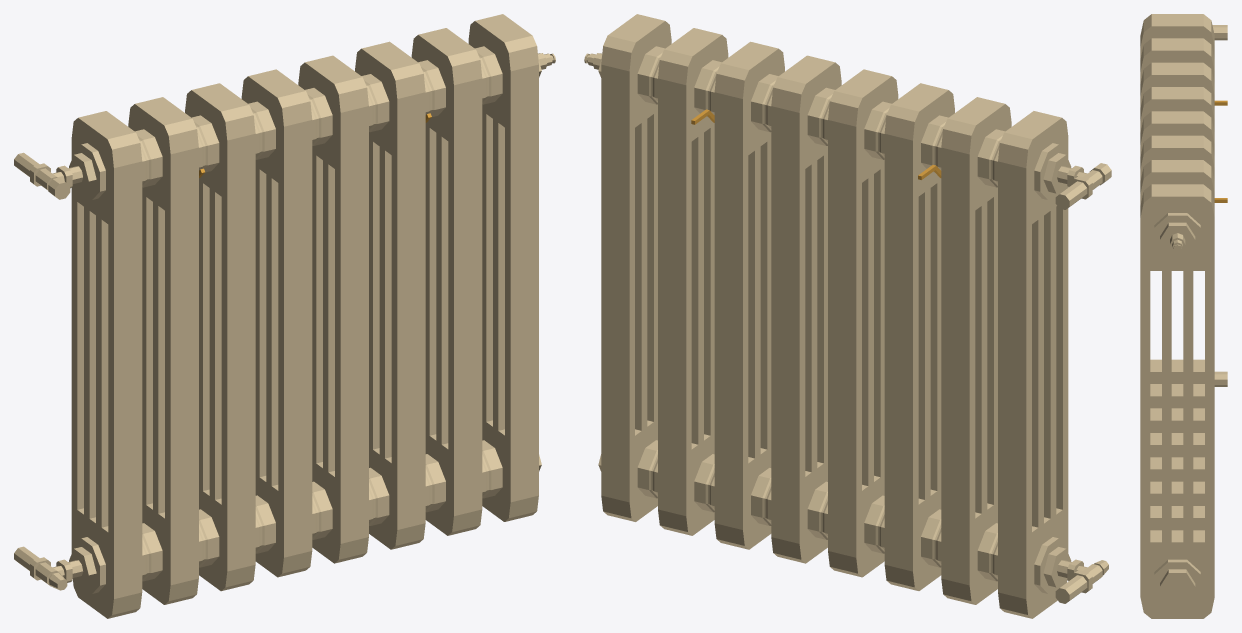
File: radiator.glb
3 renders of one model, left to right at view 1: azimuth 30°, elevation 25°; view 2: azimuth 150°, elevation 25°; view 3: azimuth 270°, elevation 25°, orthographic. The views are drawn at different scales.
Visible parts, largest first — view 1: Cylinder.016_8, Cylinder.007_5, Cylinder.002_2, Cylinder.005_3, Cylinder.006_4, Cylinder.008_6, Cylinder.015_7, Cylinder.001_1, Cylinder.034_18, Cylinder.033_17, Cylinder.017_0, Cylinder.031_15 (+12 smaller); view 2: Cylinder.016_8, Cylinder.005_3, Cylinder.008_6, Cylinder.015_7, Cylinder.001_1, Cylinder.006_4, Cylinder.007_5, Cylinder.002_2, Cylinder.034_18, Cylinder.033_17, Cylinder.017_0, Cylinder.036_20 (+14 smaller); view 3: Cylinder.001_1, Cylinder.008_6, Cylinder.006_4, Cylinder.002_2, Cylinder.005_3, Cylinder.007_5, Cylinder.015_7, Cylinder.016_8, Cylinder.037_21, Cylinder.030_14, Cylinder.019_10, Cylinder.020_11 (+4 smaller).
Part boxes in pixels (box(x1,y1,x2,y2)): Cylinder.016_8: box(71, 111, 142, 618); Cylinder.007_5: box(241, 69, 312, 577); Cylinder.002_2: box(411, 28, 482, 535); Cylinder.005_3: box(355, 41, 425, 549); Cylinder.006_4: box(298, 55, 368, 563); Cylinder.008_6: box(185, 83, 255, 591); Cylinder.015_7: box(128, 97, 198, 604); Cylinder.001_1: box(468, 14, 538, 521); Cylinder.034_18: box(248, 101, 275, 159); Cylinder.033_17: box(361, 74, 389, 132); Cylinder.017_0: box(305, 88, 332, 145); Cylinder.031_15: box(475, 46, 502, 104); Cylinder.016_8: box(998, 111, 1068, 618); Cylinder.005_3: box(714, 41, 784, 549); Cylinder.008_6: box(884, 83, 954, 590); Cylinder.015_7: box(941, 97, 1011, 604); Cylinder.001_1: box(601, 14, 671, 521); Cylinder.006_4: box(771, 55, 841, 563); Cylinder.007_5: box(828, 69, 898, 577); Cylinder.002_2: box(658, 28, 728, 535); Cylinder.034_18: box(864, 101, 891, 159); Cylinder.033_17: box(751, 74, 778, 132); Cylinder.017_0: box(807, 87, 834, 145); Cylinder.036_20: box(977, 129, 1005, 187); Cylinder.001_1: box(1140, 184, 1214, 618); Cylinder.008_6: box(1140, 62, 1214, 432); Cylinder.006_4: box(1140, 111, 1214, 481); Cylinder.002_2: box(1140, 160, 1214, 530); Cylinder.005_3: box(1140, 135, 1214, 505); Cylinder.007_5: box(1140, 87, 1214, 457); Cylinder.015_7: box(1140, 38, 1214, 408); Cylinder.016_8: box(1140, 14, 1214, 383); Cylinder.037_21: box(1154, 559, 1200, 604); Cylinder.030_14: box(1154, 213, 1200, 257); Cylinder.019_10: box(1160, 569, 1195, 600); Cylinder.020_11: box(1160, 222, 1195, 253).
Bounding box in the file's own units: 20.81 × 18.61 × 3.47.
Materials: 2 (2 with a texture image).
